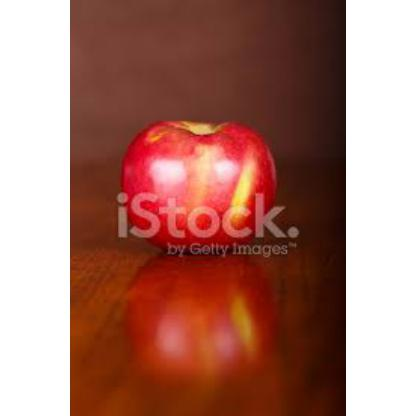apple: (122, 124, 272, 260)
